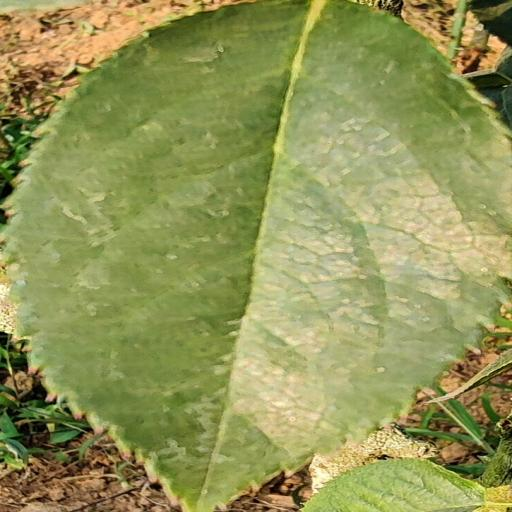healthy_leaf: (4, 0, 511, 512)
